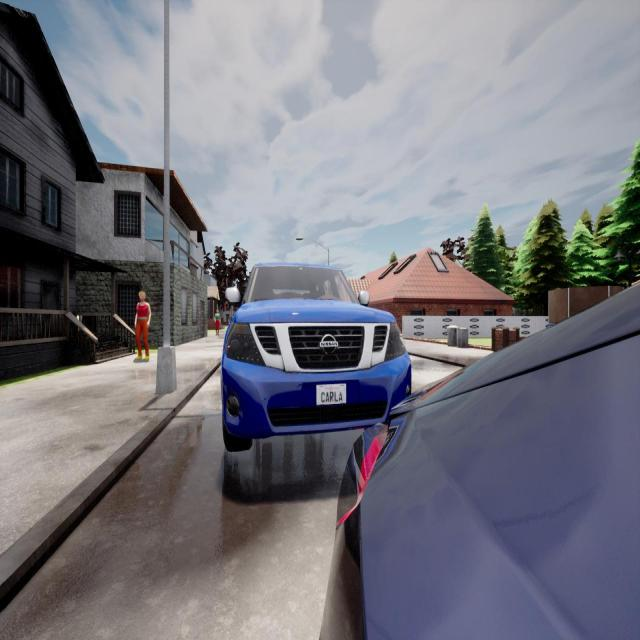Pedestrian: (134, 290, 152, 361), (214, 309, 221, 335)
Vehicle: (320, 285, 640, 638), (222, 263, 410, 449)
